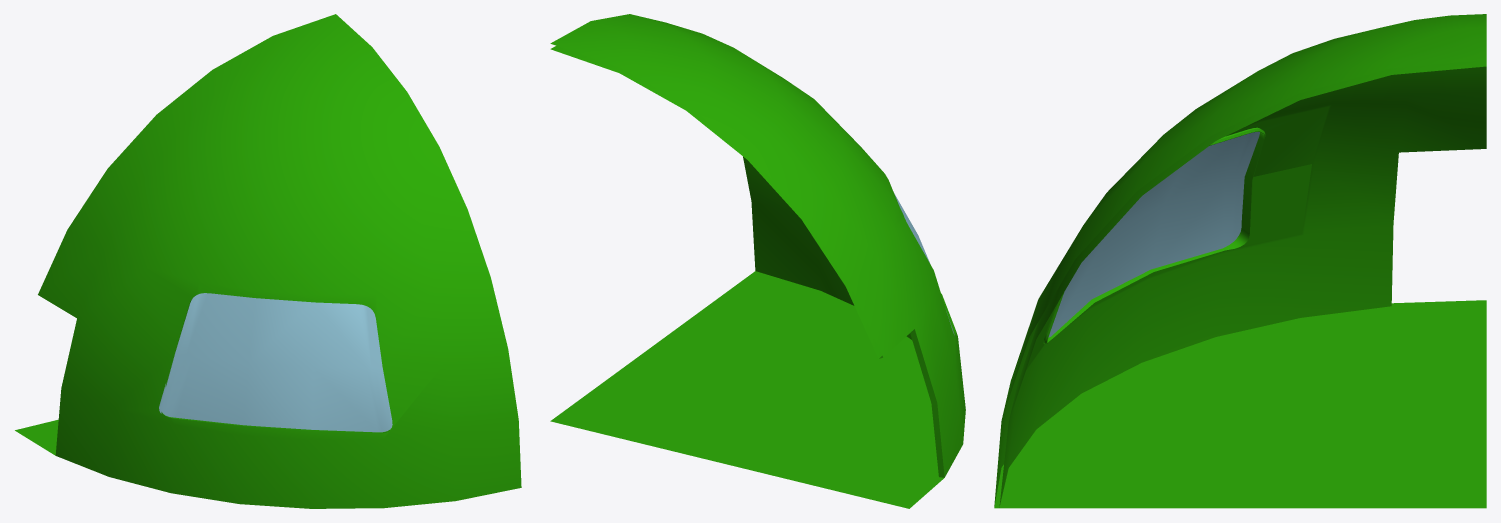
File: Module_Vitre_002.fbx
3 views of the same model, side by side, from view 1: azimuth 30°, elevation 25°; view 2: azimuth 150°, elevation 25°; view 3: azimuth 270°, elevation 25° (orthographic). The views are drawn at different scales.
Visible parts, largest first — view 1: Object113; view 2: Object113; view 3: Object113.
Boxes of the visible parts, x1,y1,x2,y2 form: Object113: [15, 14, 521, 508]; Object113: [550, 14, 965, 508]; Object113: [994, 14, 1486, 508].
Size of the model in its own units: 800 by 805 by 800.
